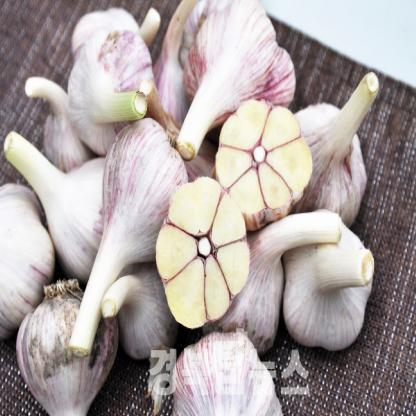garlic: (158, 171, 254, 323), (178, 12, 290, 128), (23, 278, 109, 414), (26, 146, 112, 279), (292, 213, 374, 349), (218, 100, 308, 218), (100, 129, 178, 264), (65, 30, 160, 139), (303, 100, 381, 232), (2, 178, 48, 306)
